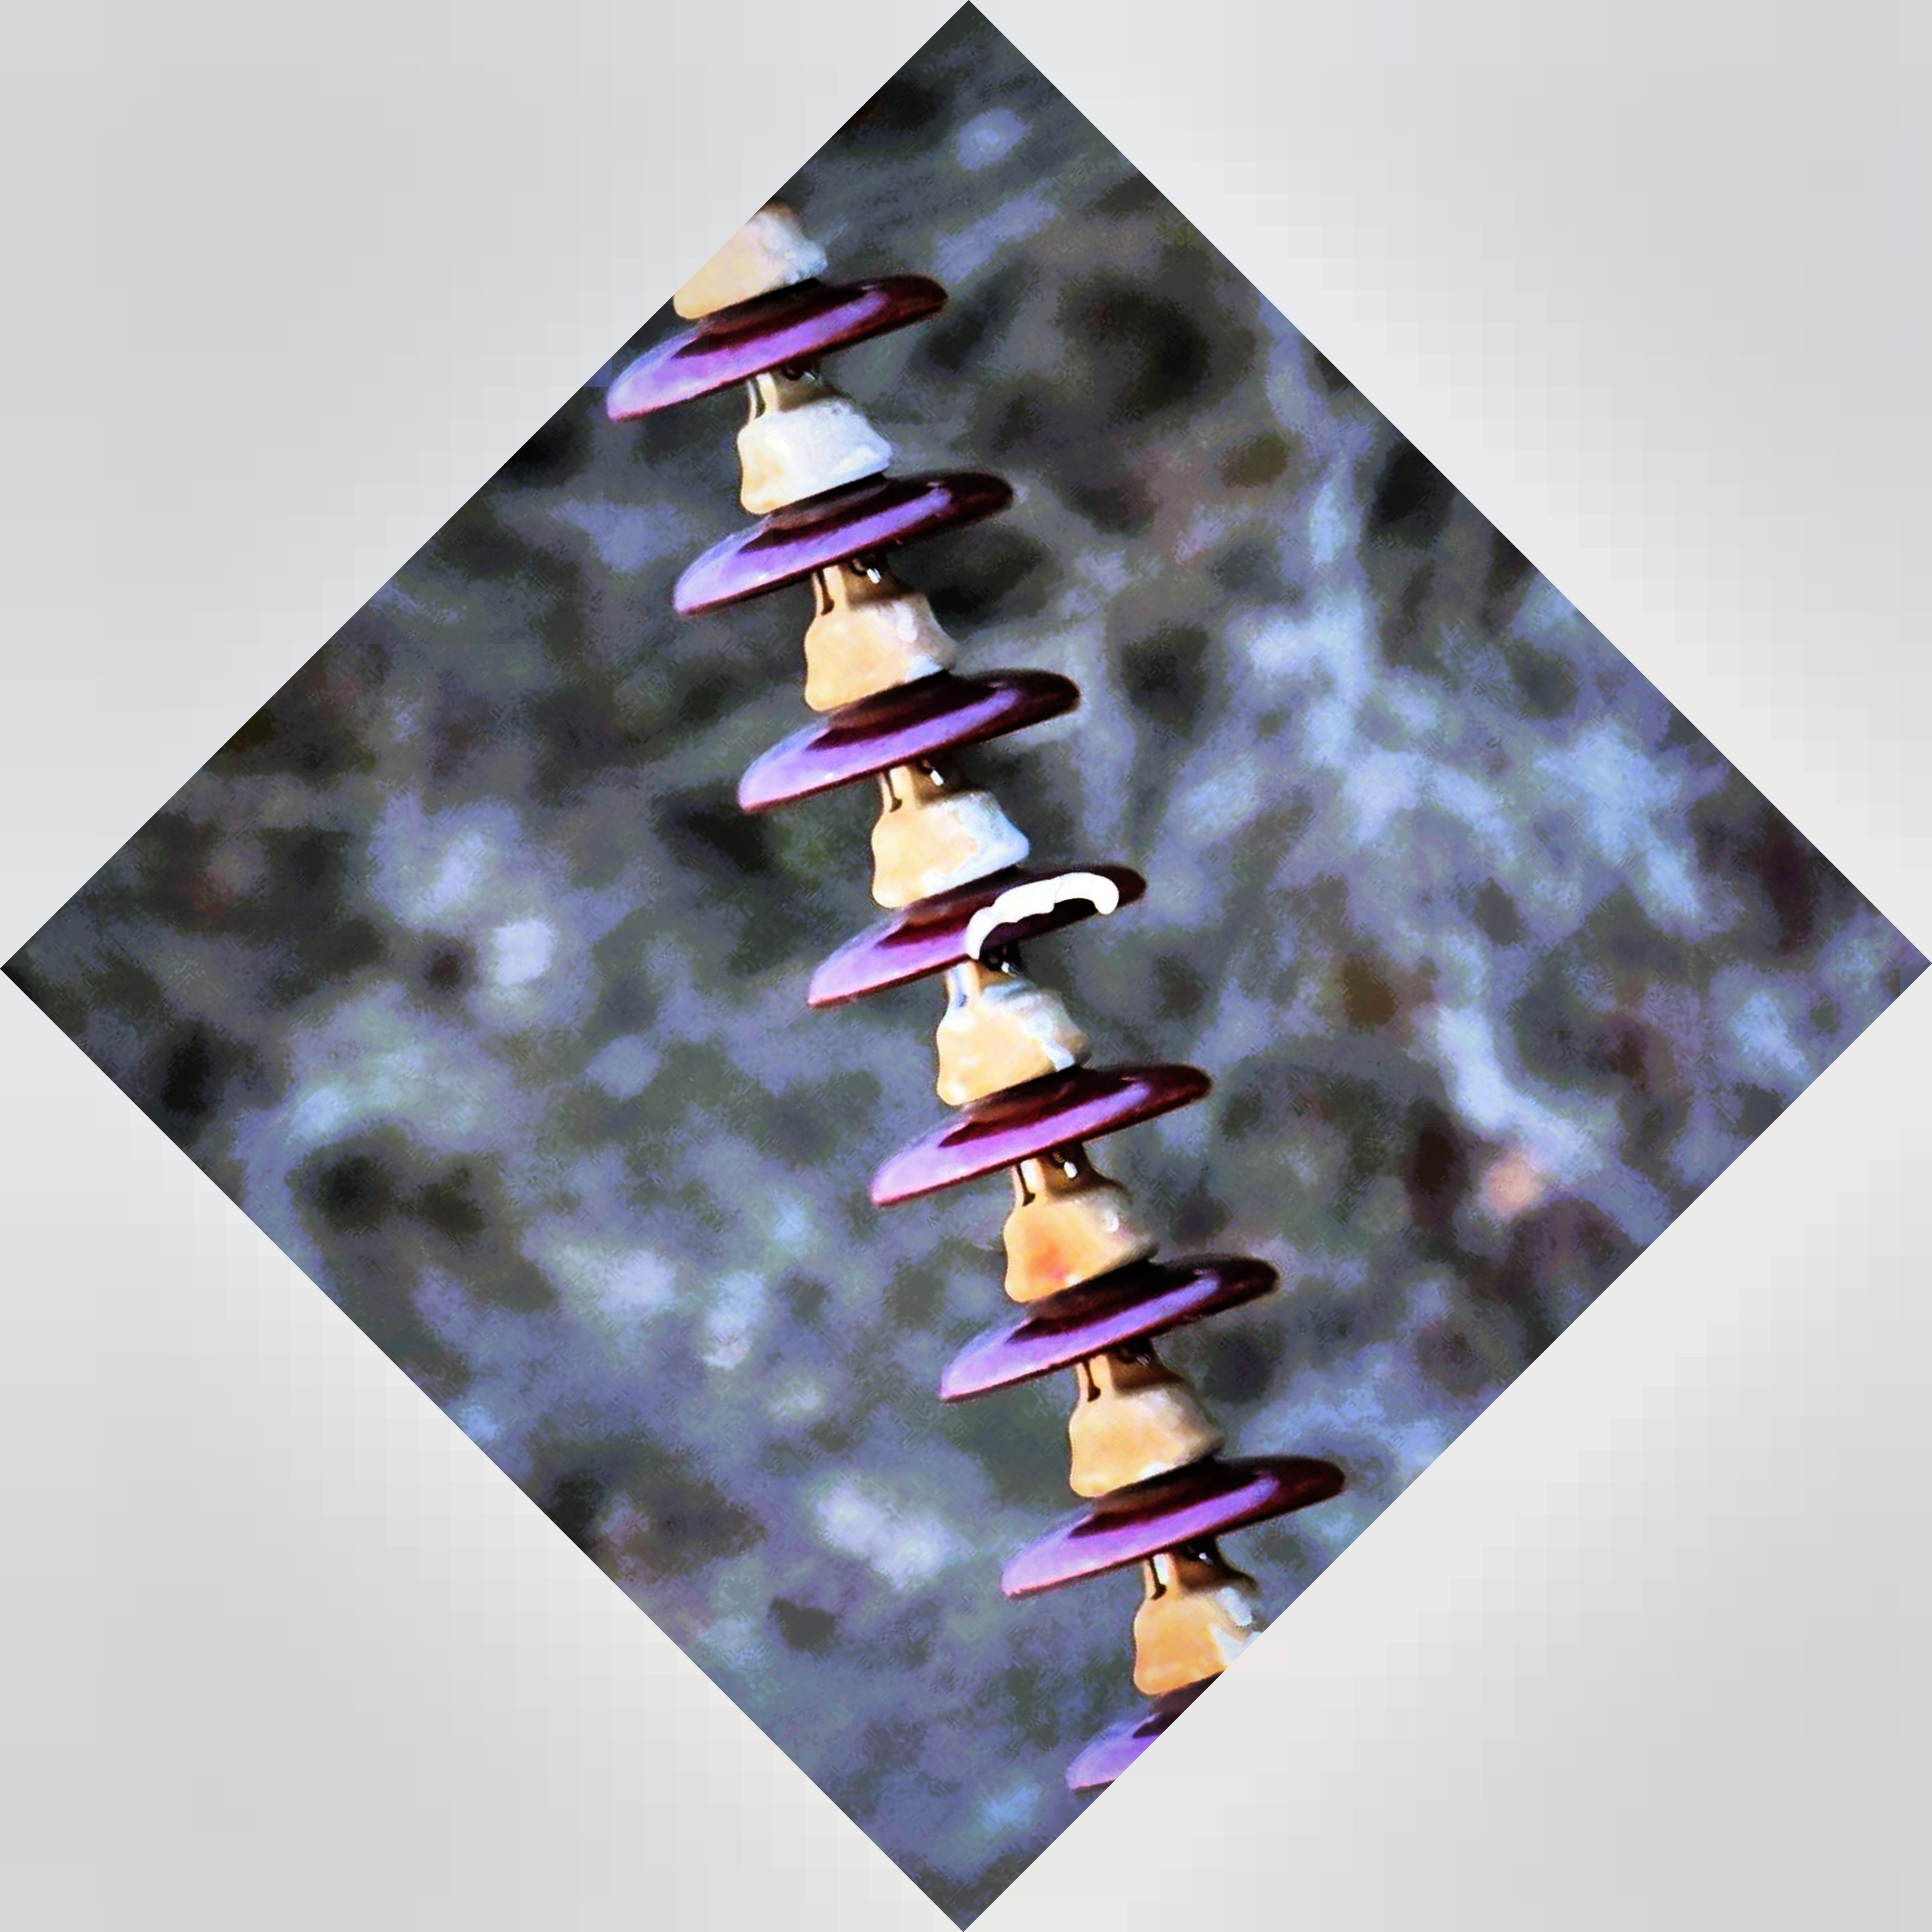insulator breakage: (778, 846, 1168, 1019)
